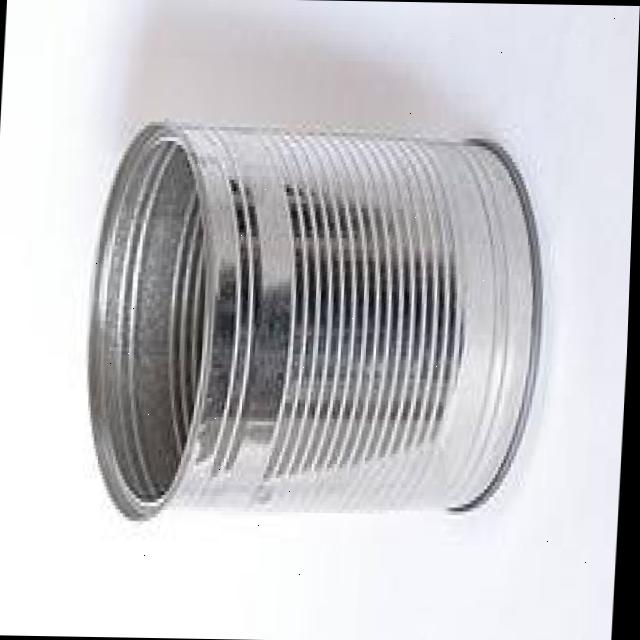Dry: (77, 116, 550, 524)
